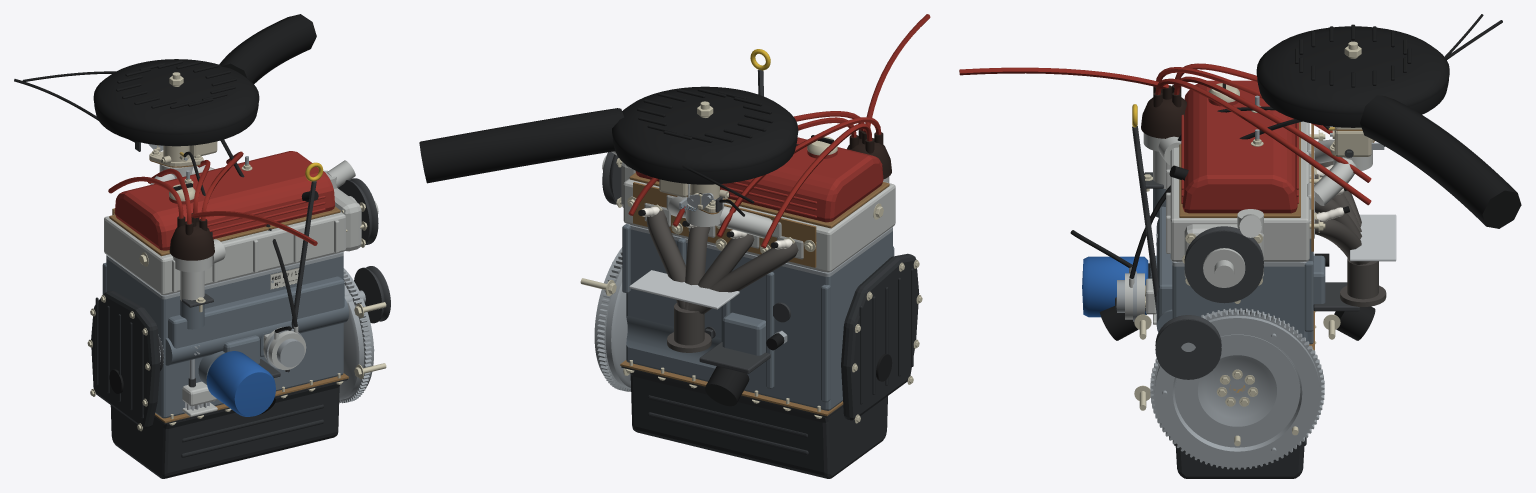
File: moteur.glb
3 renders of one model, left to right at view 1: azimuth 30°, elevation 25°; view 2: azimuth 150°, elevation 25°; view 3: azimuth 270°, elevation 25°, orthographic. The views are drawn at different scales.
Parts seen in each view (by area): view 1: bloc.fonte, filtre-air.noir, carter-huile.tole-noire, cache-culbuteurs.peinture-rouge, culasse.alu-coule, distribution.tole-noire, fx.filtre-huile-cartouche.0, allumeur.fil-rouge, volant-moteur.fonte-usinee, allumeur.bakelite, pompe-eau.alu-coule, allumeur.alu-coule (+14 smaller); view 2: filtre-air.noir, bloc.fonte, carter-huile.tole-noire, distribution.tole-noire, echappement.fonte-echappement, cache-culbuteurs.peinture-rouge, culasse.alu-coule, allumeur.fil-rouge, echappement.joint, volant-moteur.fonte-usinee, echappement.tole-alu, echappement.alu-coule (+9 smaller); view 3: filtre-air.noir, volant-moteur.fonte-usinee, cache-culbuteurs.peinture-rouge, bloc.fonte, allumeur.fil-rouge, culasse.alu-coule, pompe-eau.acier-noirci, echappement.fonte-echappement, arbre-cames.acier-noirci, pompe-eau.alu-coule, fx.filtre-huile-cartouche.0, carter-huile.tole-noire (+12 smaller).
Boxes of the visible parts, bbox=[...] form: bloc.fonte: bbox=[102, 256, 348, 418]; filtre-air.noir: bbox=[93, 14, 316, 146]; carter-huile.tole-noire: bbox=[110, 378, 347, 478]; cache-culbuteurs.peinture-rouge: bbox=[114, 151, 334, 250]; culasse.alu-coule: bbox=[104, 212, 345, 295]; distribution.tole-noire: bbox=[91, 290, 160, 428]; fx.filtre-huile-cartouche.0: bbox=[206, 351, 275, 416]; allumeur.fil-rouge: bbox=[108, 151, 317, 245]; volant-moteur.fonte-usinee: bbox=[339, 268, 373, 400]; allumeur.bakelite: bbox=[169, 213, 214, 260]; pompe-eau.alu-coule: bbox=[324, 160, 378, 251]; allumeur.alu-coule: bbox=[172, 239, 225, 301]; filtre-air.noir: bbox=[419, 86, 798, 184]; bloc.fonte: bbox=[622, 224, 894, 410]; carter-huile.tole-noire: bbox=[621, 366, 887, 478]; distribution.tole-noire: bbox=[841, 253, 919, 420]; echappement.fonte-echappement: bbox=[646, 210, 798, 352]; cache-culbuteurs.peinture-rouge: bbox=[635, 137, 883, 222]; culasse.alu-coule: bbox=[623, 178, 895, 272]; allumeur.fil-rouge: bbox=[628, 14, 930, 248]; echappement.joint: bbox=[633, 182, 816, 267]; volant-moteur.fonte-usinee: bbox=[594, 247, 630, 387]; echappement.tole-alu: bbox=[629, 270, 739, 309]; echappement.alu-coule: bbox=[667, 196, 772, 238]; filtre-air.noir: bbox=[1256, 24, 1521, 228]; volant-moteur.fonte-usinee: bbox=[1154, 309, 1319, 467]; cache-culbuteurs.peinture-rouge: bbox=[1181, 80, 1298, 213]; bloc.fonte: bbox=[1149, 188, 1325, 344]; allumeur.fil-rouge: bbox=[959, 63, 1371, 205]; culasse.alu-coule: bbox=[1166, 121, 1314, 261]; pompe-eau.acier-noirci: bbox=[1184, 226, 1263, 303]; echappement.fonte-echappement: bbox=[1315, 161, 1386, 306]; arbre-cames.acier-noirci: bbox=[1155, 315, 1221, 379]; pompe-eau.alu-coule: bbox=[1184, 209, 1263, 287]; fx.filtre-huile-cartouche.0: bbox=[1082, 256, 1149, 317]; carter-huile.tole-noire: bbox=[1174, 437, 1306, 478].
Size of the model in its own units: 0.6251 by 0.6588 by 0.85.
Materials: 34 (1 with a texture image).
